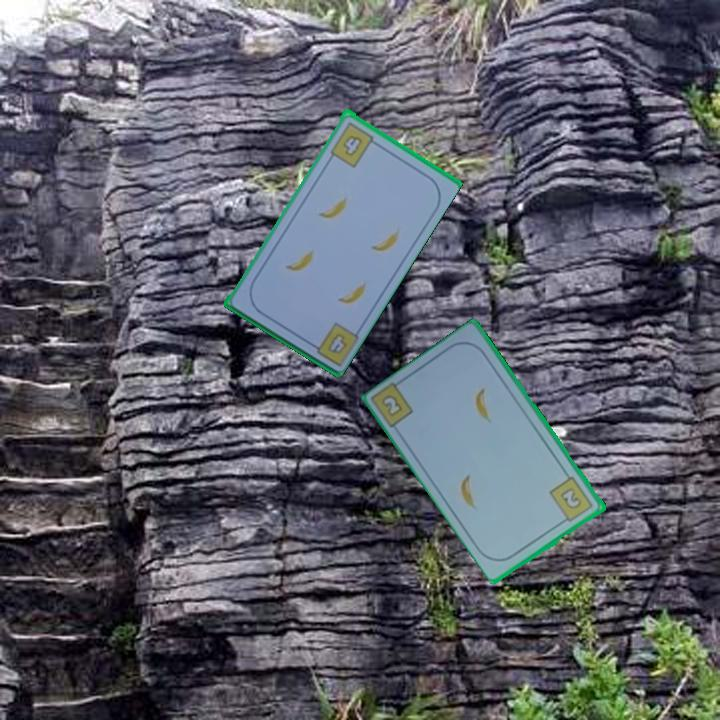2b: (546, 473, 596, 526), (378, 391, 406, 420)
4b: (304, 317, 361, 368), (326, 118, 380, 170)
